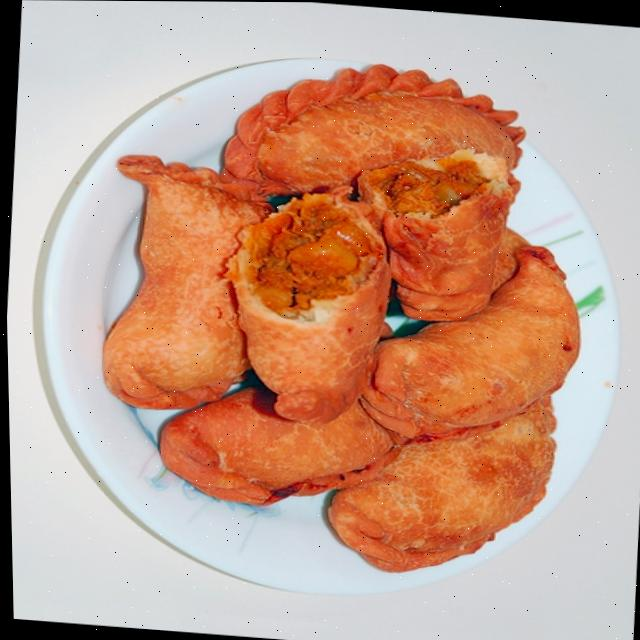炸货点心: (2, 18, 639, 621)
